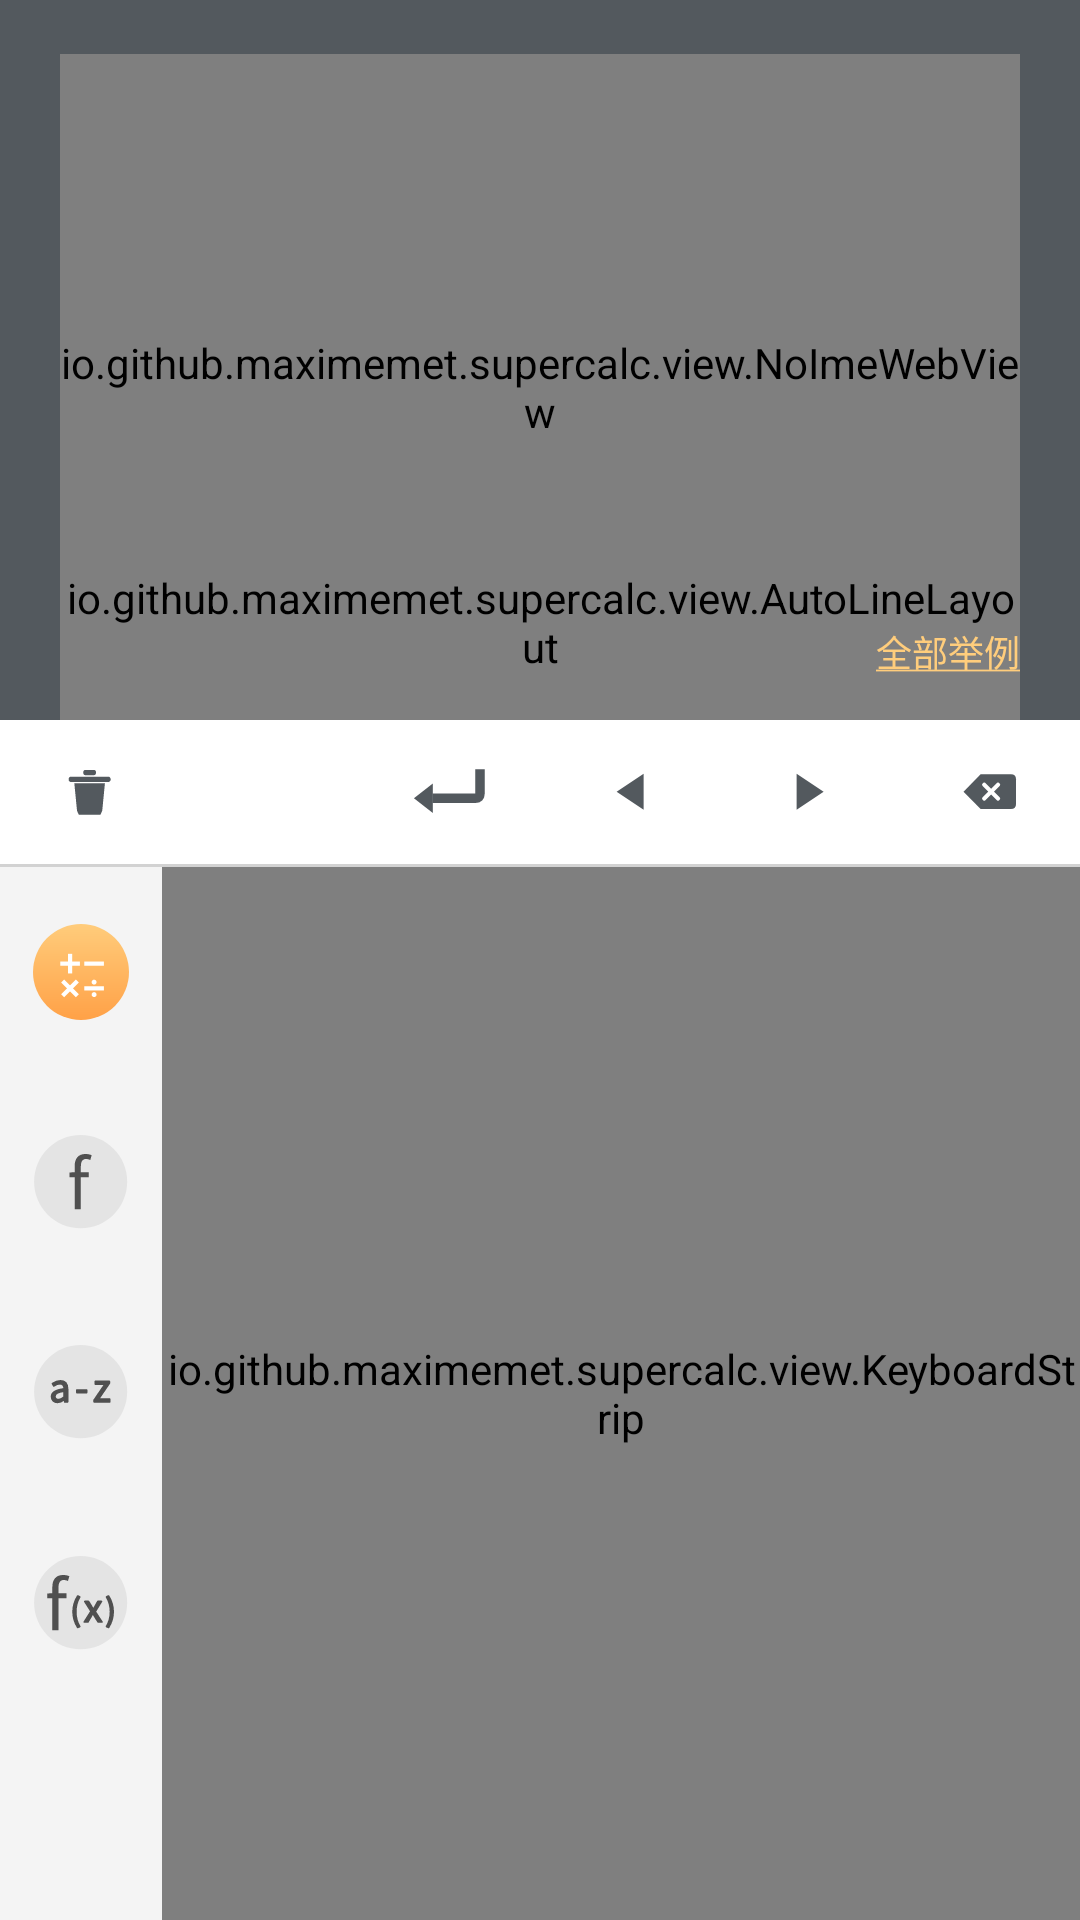

Named icons in this screenshot (1080×1920) and their bounding boxes, detection(x1, y1, x2, y2):
公式: detection(34, 1556, 127, 1649)
函数: detection(34, 1135, 127, 1228)
变量: detection(34, 1345, 127, 1438)
右移: detection(796, 774, 824, 810)
基本: detection(33, 924, 129, 1020)
左移: detection(617, 774, 644, 810)
换行: detection(414, 769, 485, 813)
清空: detection(68, 770, 111, 815)
退格: detection(963, 774, 1016, 809)
